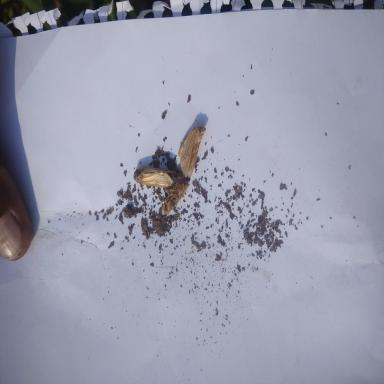abw: (177, 124, 207, 178), (160, 180, 191, 216), (132, 163, 174, 188)
